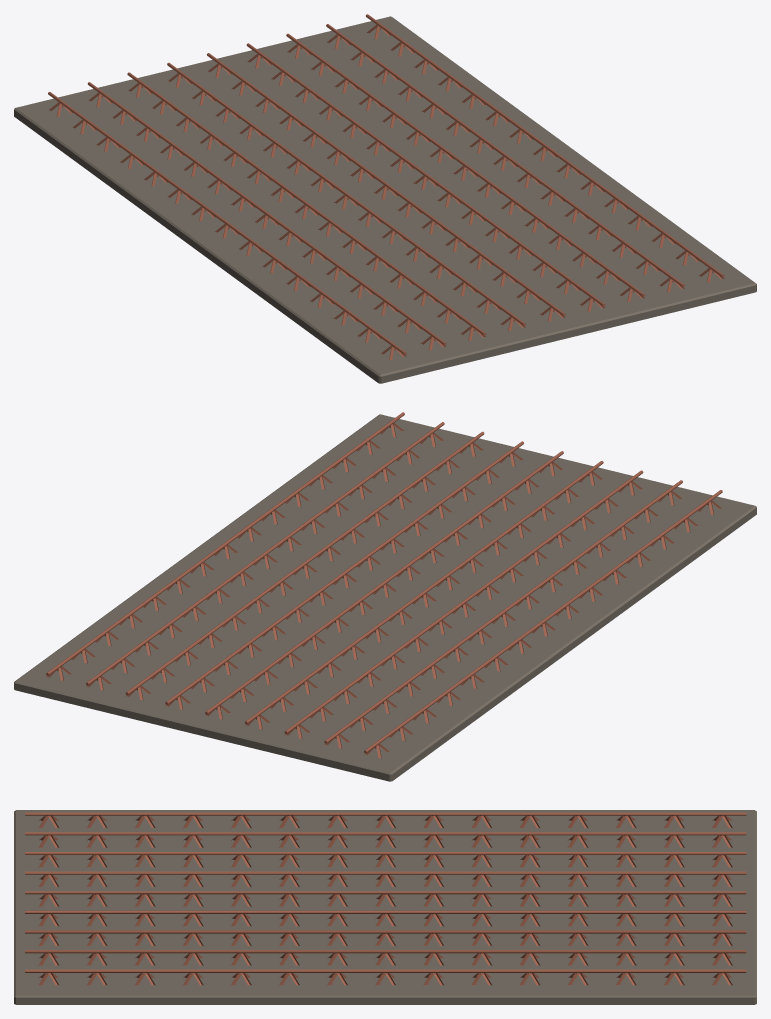
The picture shows the model from 3 angles, top to bottom: view 1: azimuth 30°, elevation 25°; view 2: azimuth 150°, elevation 25°; view 3: azimuth 270°, elevation 25°; orthographic projection.
Visible parts, largest first — view 1: Decke 7; view 2: Decke 7; view 3: Decke 7.
Boxes of the visible parts, left/top/right/bottom form: Decke 7: left=14, top=14, right=756, bottom=383; Decke 7: left=14, top=412, right=756, bottom=781; Decke 7: left=14, top=810, right=756, bottom=1004.
Size of the model in its own units: 2.86 by 0.146 by 4.8.
